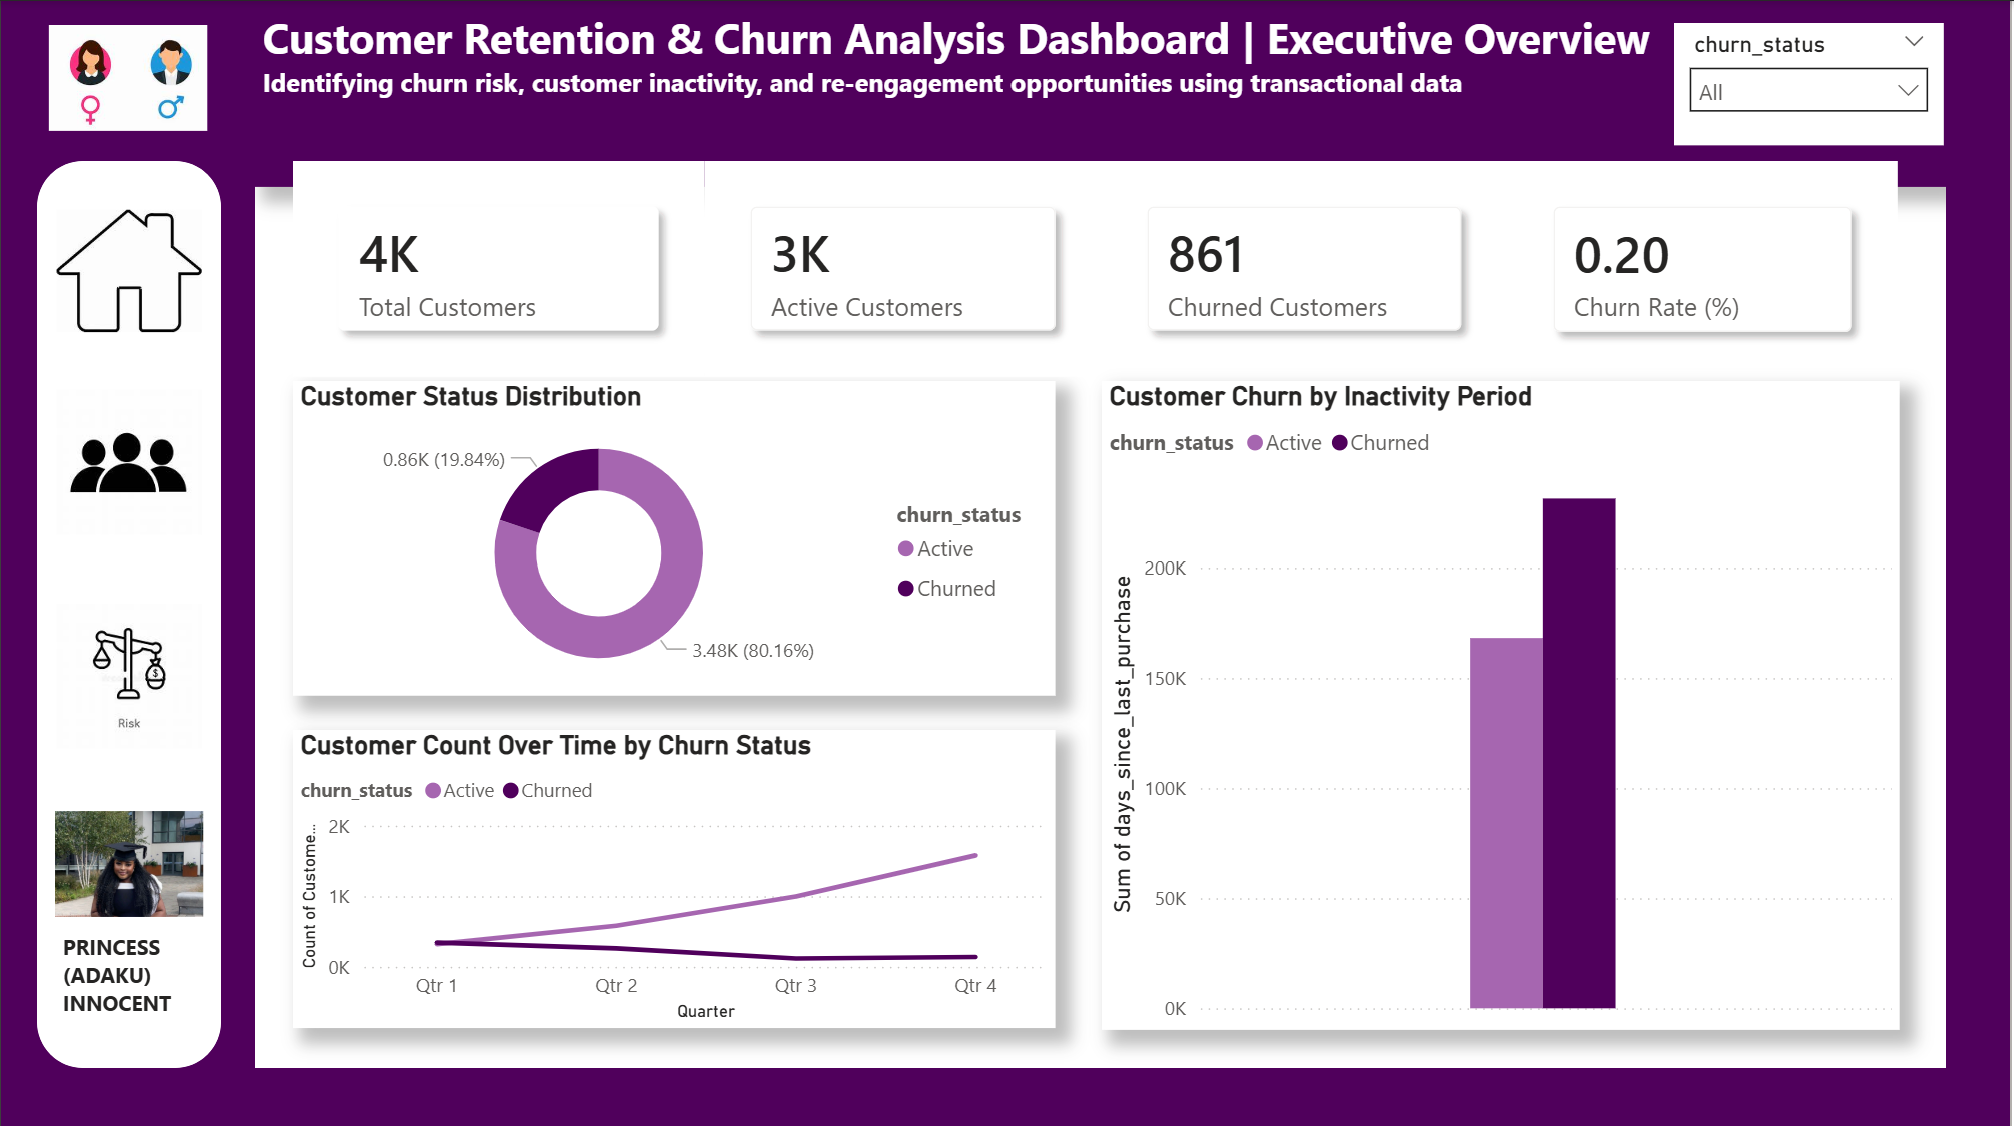

Layout of this report page (visuals, bound fields, positions):
{"tool":"powerbi","page":{"name":"Executive Overview","canvas":[1280,720],"ordinal":0},"visuals":[{"type":"cardVisual","title":"Total Customers","fields":{"Data":["customer_churn_180days.Total Customers"]},"box":[211.6,302.2,237.1,127.5],"z":0},{"type":"textbox","box":[161.9,0,1077.3,118.6],"z":1000},{"type":"donutChart","title":"Customer Status Distribution","fields":{"Category":["customer_churn_180days.churn_status"],"Y":["CountNonNull(customer_churn_180days.CustomerID)"]},"box":[186.1,242.2,485.7,200.2],"z":2000},{"type":"slicer","fields":{"Values":["customer_churn_180days.churn_status"]},"box":[1065.8,14,172.1,77.8],"z":3000},{"type":"lineChart","title":"Customer Count Over Time by Churn Status","fields":{"Category":["customer_churn_180days.last_purchase_date.Variation.Date Hierarchy.Quarter"],"Y":["CountNonNull(customer_churn_180days.CustomerID)"],"Series":["customer_churn_180days.churn_status"]},"box":[186.1,464.1,485.7,190],"z":4000},{"type":"shape","box":[0,0,161.9,720.3],"z":5000},{"type":"shape","box":[161.9,679.5,1077.3,42.1],"z":6000},{"type":"shape","box":[1239.2,0,42.1,720.3],"z":7000},{"type":"shape","box":[22.9,102,117.3,577.5],"z":8000},{"type":"image","box":[34.4,118.6,94.3,107.1],"z":9000},{"type":"image","box":[34.4,242.2,94.3,103.3],"z":10000},{"type":"image","box":[34.4,369.7,94.3,119.8],"z":11000},{"type":"image","box":[34.4,511.2,94.3,76.5],"z":12000},{"type":"textbox","box":[34.4,587.7,96.9,66.3],"z":13000},{"type":"cardVisual","fields":{"Data":["customer_churn_180days.Total Customers"]},"box":[186.1,102,262.6,137.7],"z":14000},{"type":"cardVisual","fields":{"Data":["customer_churn_180days.Active Customers"]},"box":[448.8,102,252.4,137.7],"z":15000},{"type":"cardVisual","fields":{"Data":["customer_churn_180days.Churned Customers"]},"box":[701.2,102,258.8,137.7],"z":16000},{"type":"cardVisual","fields":{"Data":["customer_churn_180days.Churn Rate (%)"]},"box":[960,102,248.6,139],"z":17000},{"type":"clusteredColumnChart","title":"Customer Churn by Inactivity Period","fields":{"Y":["Sum(customer_churn_180days.days_since_last_purchase)"],"Series":["customer_churn_180days.churn_status"]},"box":[701.2,242.2,508.7,413.1],"z":18000},{"type":"image","box":[0,15.3,161.9,67.6],"z":18001}]}

Visuals, with their boxes in screenshot pixels (x1, y1, x2, y2), scaled from the page's 1280x720 canvas onto the 2014x1126 screenshot:
"Total Customers" cardVisual: {"x1": 333, "y1": 473, "x2": 706, "y2": 672}
textbox: {"x1": 255, "y1": 0, "x2": 1950, "y2": 185}
"Customer Status Distribution" donutChart: {"x1": 293, "y1": 379, "x2": 1057, "y2": 692}
slicer - customer_churn_180days.churn_status: {"x1": 1677, "y1": 22, "x2": 1948, "y2": 144}
"Customer Count Over Time by Churn Status" lineChart: {"x1": 293, "y1": 726, "x2": 1057, "y2": 1023}
shape: {"x1": 0, "y1": 0, "x2": 255, "y2": 1125}
shape: {"x1": 255, "y1": 1063, "x2": 1950, "y2": 1125}
shape: {"x1": 1950, "y1": 0, "x2": 2013, "y2": 1125}
shape: {"x1": 36, "y1": 160, "x2": 221, "y2": 1063}
image: {"x1": 54, "y1": 185, "x2": 203, "y2": 353}
image: {"x1": 54, "y1": 379, "x2": 203, "y2": 540}
image: {"x1": 54, "y1": 578, "x2": 203, "y2": 766}
image: {"x1": 54, "y1": 799, "x2": 203, "y2": 919}
textbox: {"x1": 54, "y1": 919, "x2": 207, "y2": 1023}
cardVisual - customer_churn_180days.Total Customers: {"x1": 293, "y1": 160, "x2": 706, "y2": 375}
cardVisual - customer_churn_180days.Active Customers: {"x1": 706, "y1": 160, "x2": 1103, "y2": 375}
cardVisual - customer_churn_180days.Churned Customers: {"x1": 1103, "y1": 160, "x2": 1510, "y2": 375}
cardVisual - customer_churn_180days.Churn Rate (%): {"x1": 1510, "y1": 160, "x2": 1902, "y2": 377}
"Customer Churn by Inactivity Period" clusteredColumnChart: {"x1": 1103, "y1": 379, "x2": 1904, "y2": 1025}
image: {"x1": 0, "y1": 24, "x2": 255, "y2": 130}
